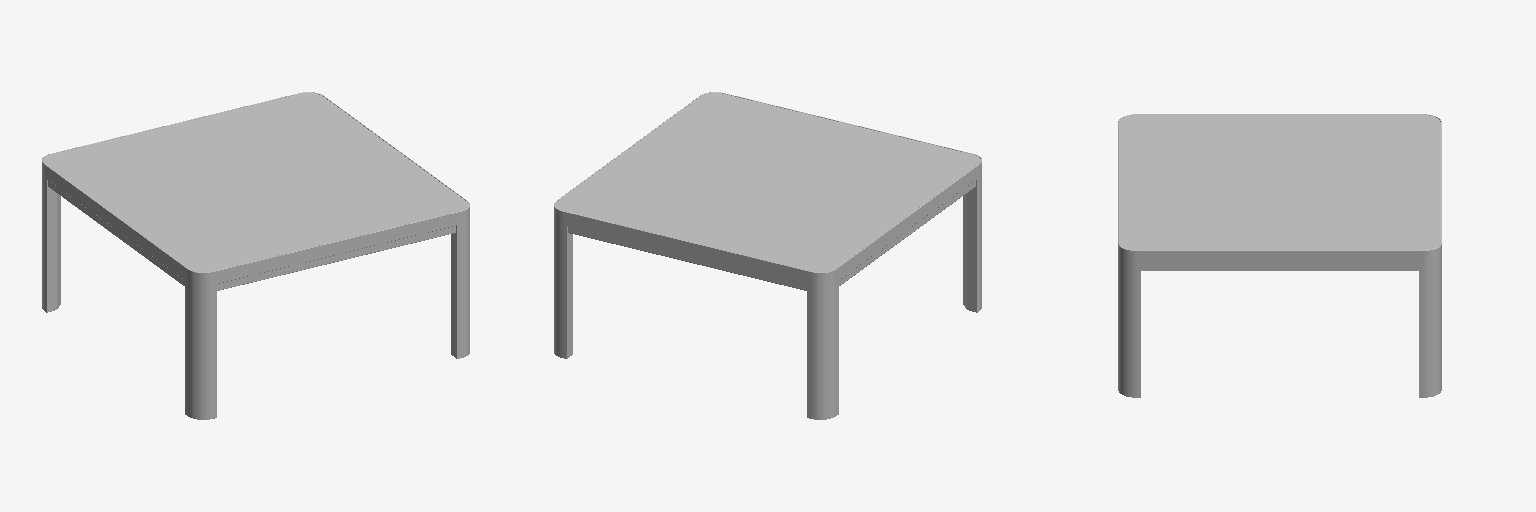
Rendered from table.obj.
3 views of the same model, side by side, from view 1: azimuth 30°, elevation 25°; view 2: azimuth 150°, elevation 25°; view 3: azimuth 270°, elevation 25° (orthographic).
Visible parts, largest first — view 1: Cube_Material; view 2: Cube_Material; view 3: Cube_Material.
Part boxes in pixels (x1,y1,x2,y2): Cube_Material: (42, 92, 469, 419); Cube_Material: (554, 92, 981, 419); Cube_Material: (1118, 114, 1441, 397).
Size of the model in its own units: 38.66 by 19.39 by 38.66.